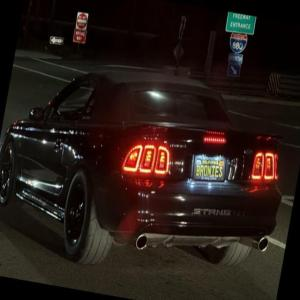Plate: (192, 154, 226, 181)
